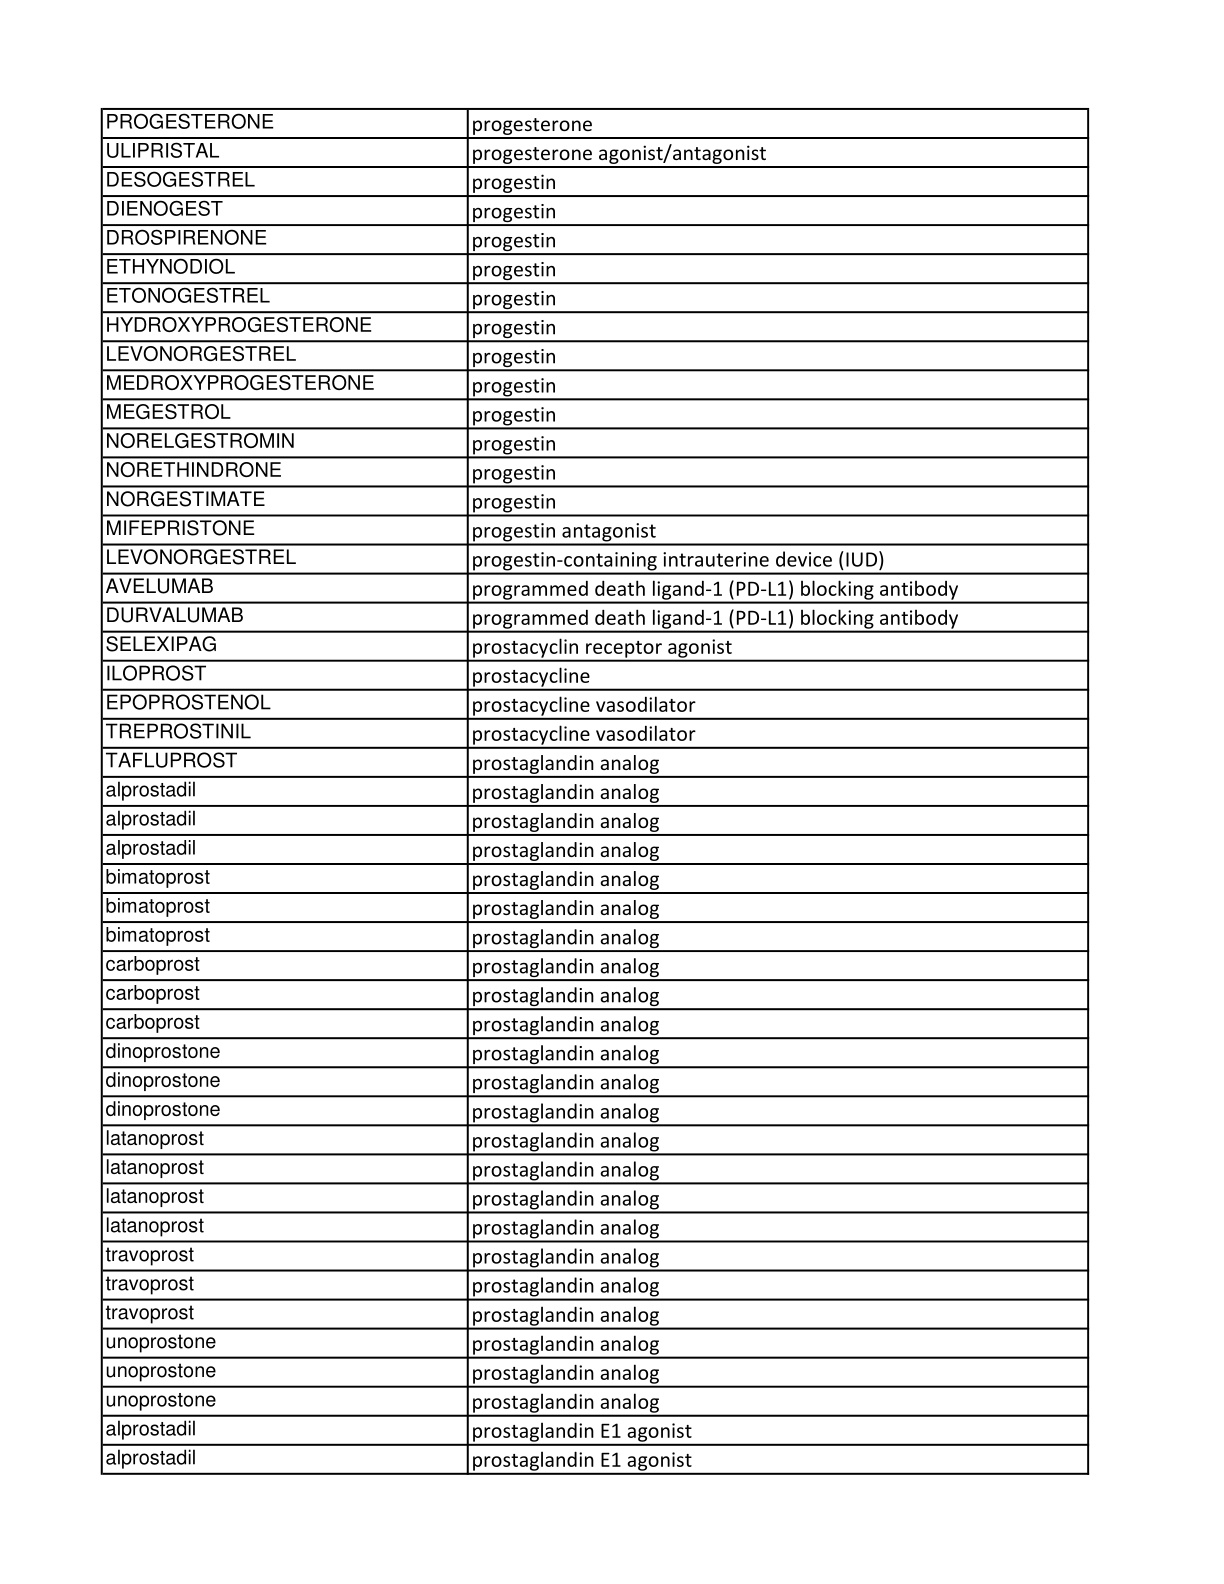full_lined: (100, 105, 1090, 1475)
